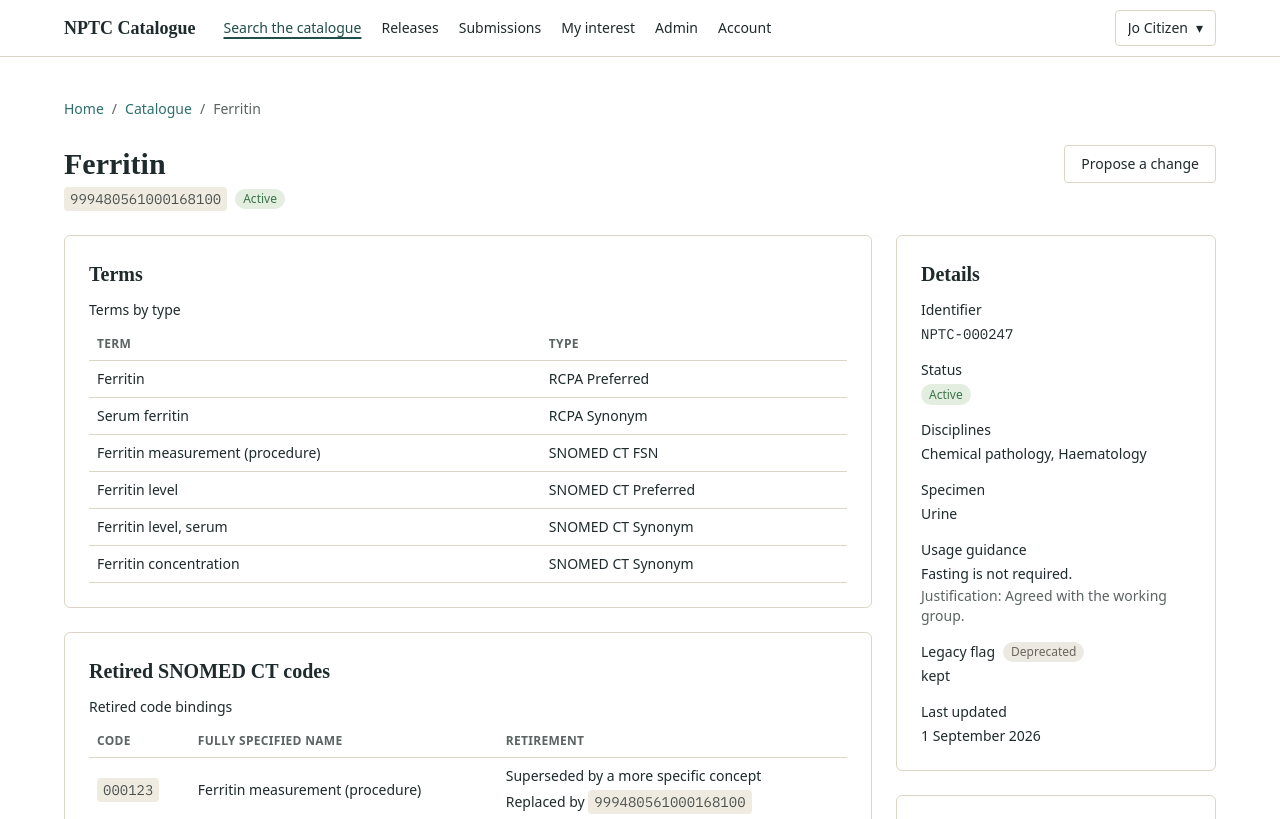
Test case: the Propose a change link (FR-35, NFR-20) › opens the amendment form for the entry
Check: the heading "Ferritin" is shown, box [64, 147, 166, 180]
Click the link "Propose a change".
click(1140, 164)  # box [1064, 145, 1216, 183]
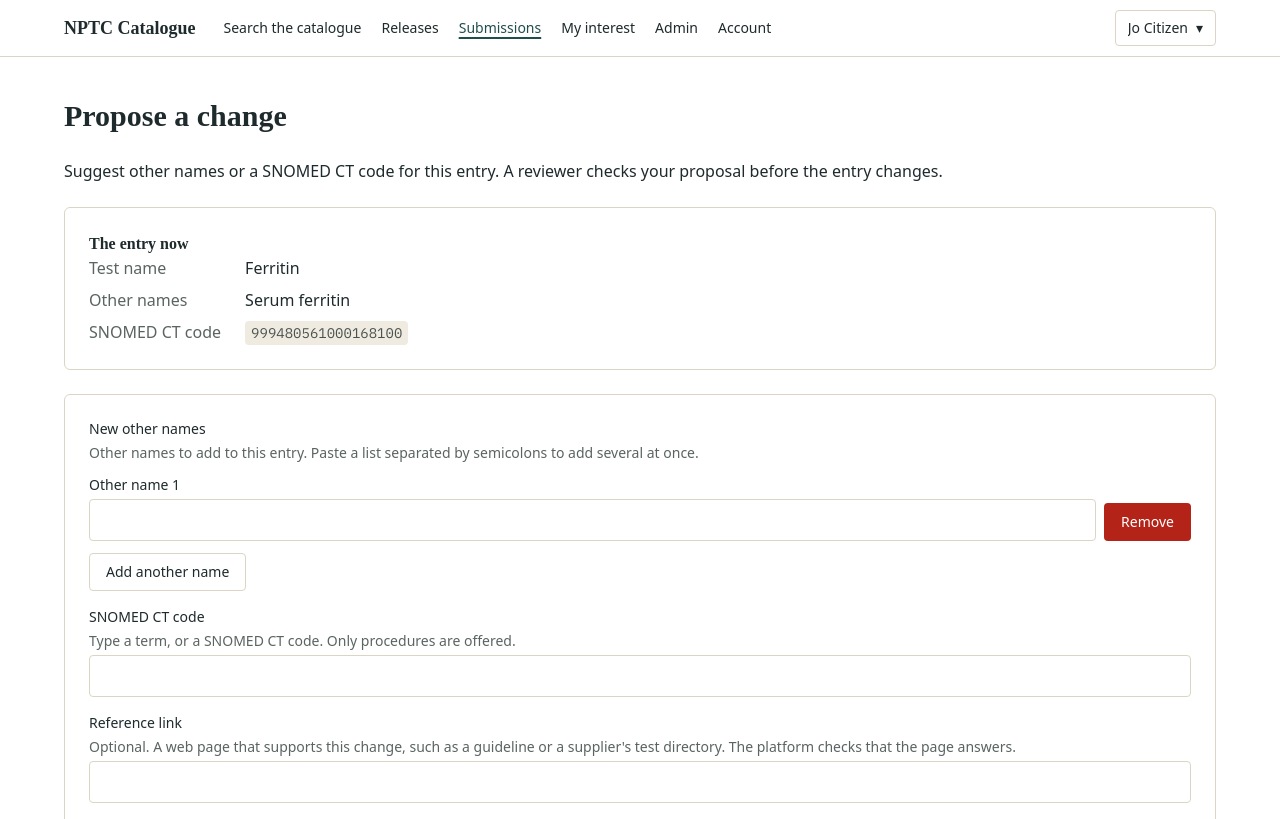
Check: the heading "Propose a change" is shown, box [64, 97, 287, 134]
Check: the field labelled "Other name 1" is shown, box [89, 498, 1096, 540]
